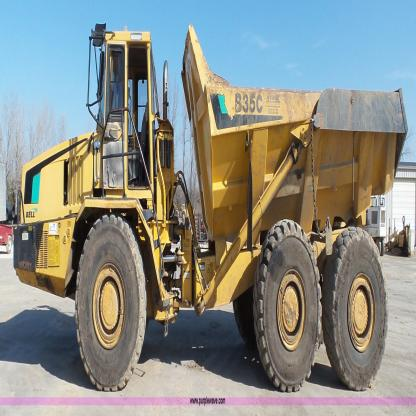dump_truck: (9, 15, 405, 392)
